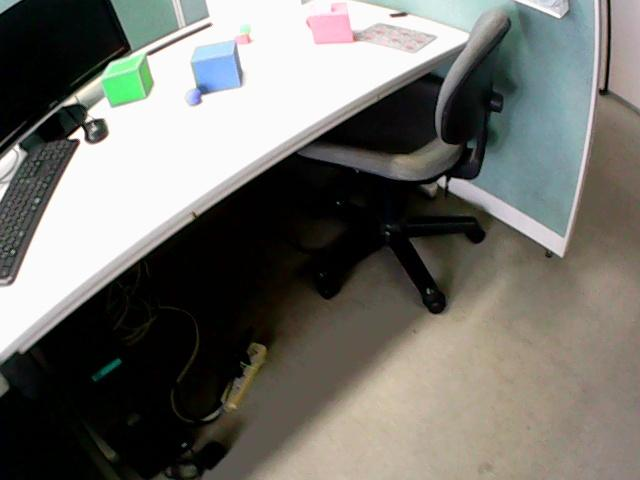blue_block: (191, 41, 241, 92)
